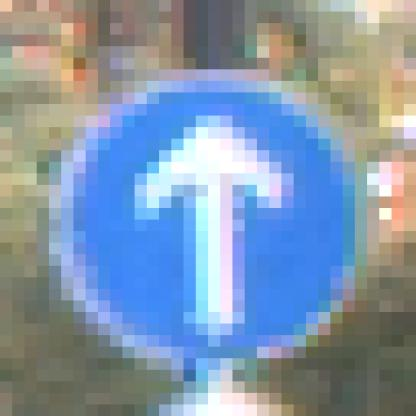AheadOnly: (62, 71, 356, 360)
